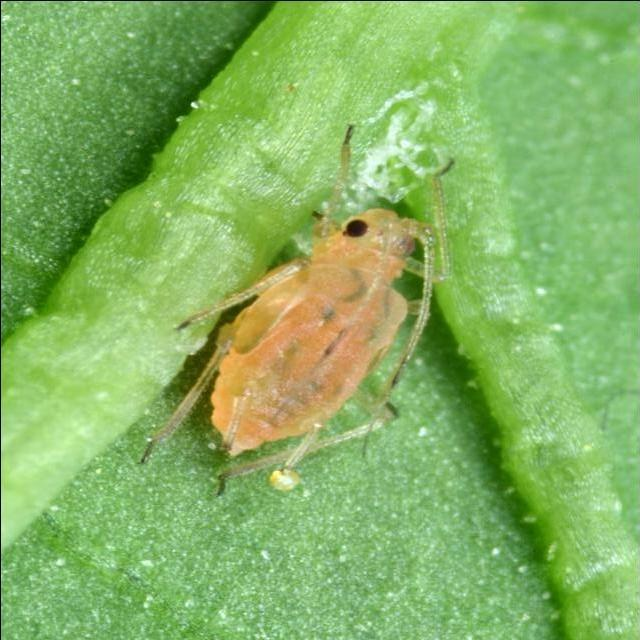aphid: (140, 145, 510, 492)
